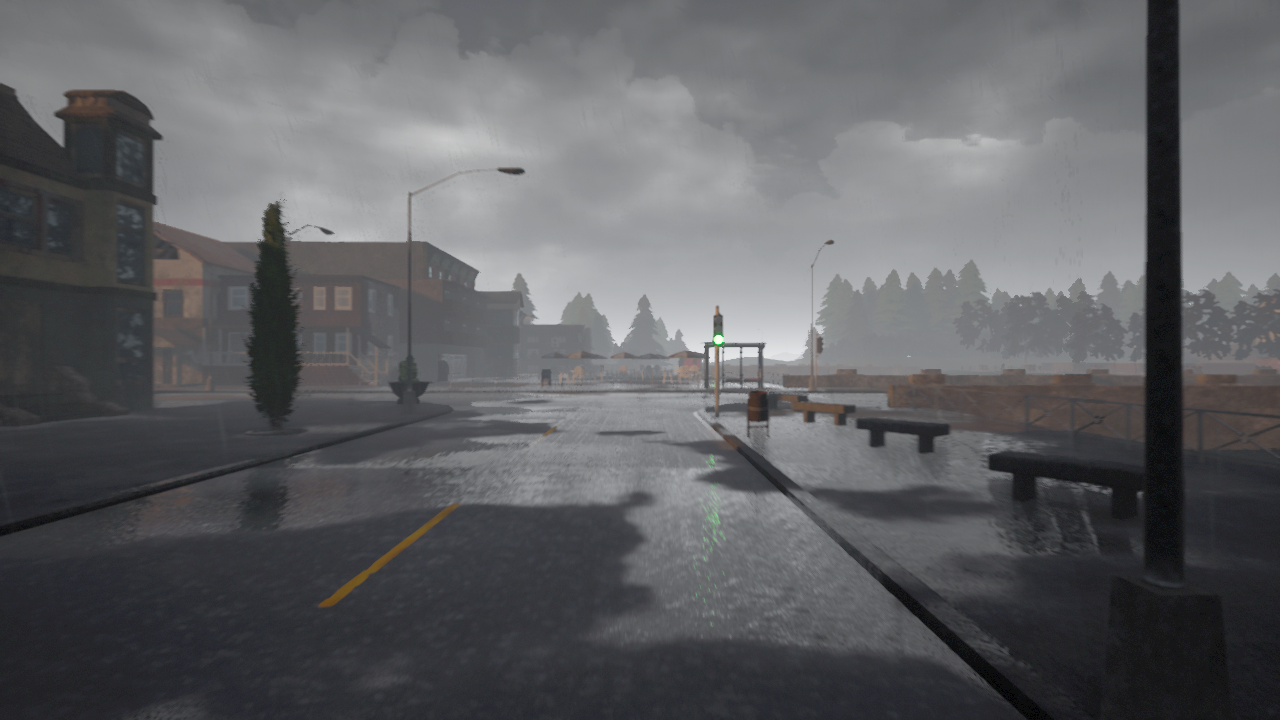green: (712, 315, 725, 346)
